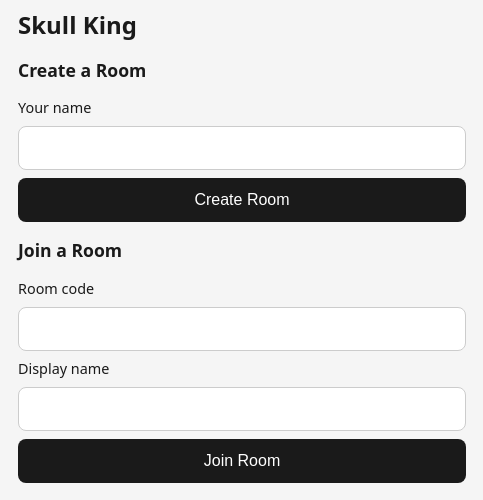
App › joins a Room and shows the Lobby roster on success
The image size is (483, 500).
In the field labelled "Room code": [242, 329] box [18,307,466,351], type "ABCD"
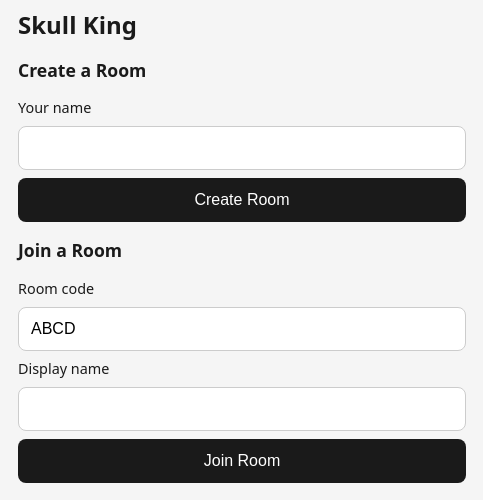
In the field labelled "Display name": [242, 409] box [18,387,466,431], type "Bob"
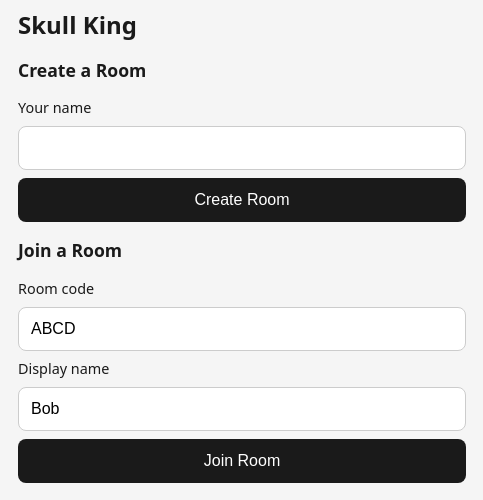
Click the button "Join Room": [242, 461] box [18,439,466,483]
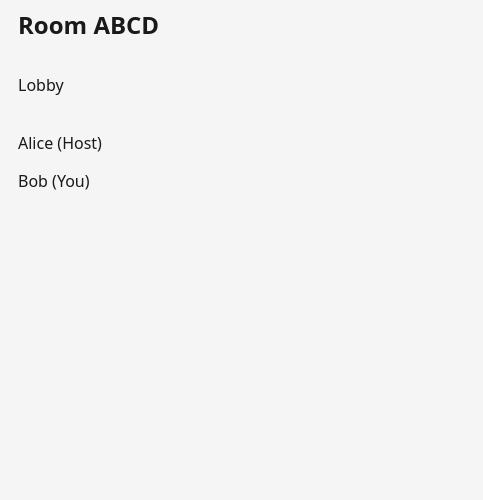
Result: the text "Bob" is shown at [18,170,48,192]
Result: the text "Alice" is shown at [18,132,53,154]
